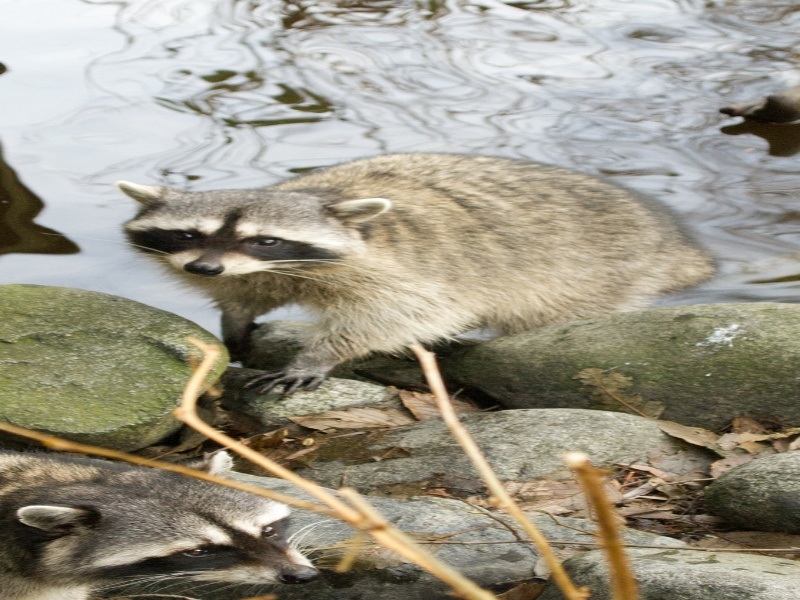raccoon: (114, 143, 720, 408)
